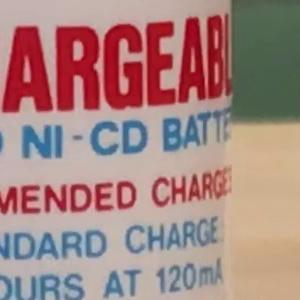NI-CD: (12, 110, 157, 168)
